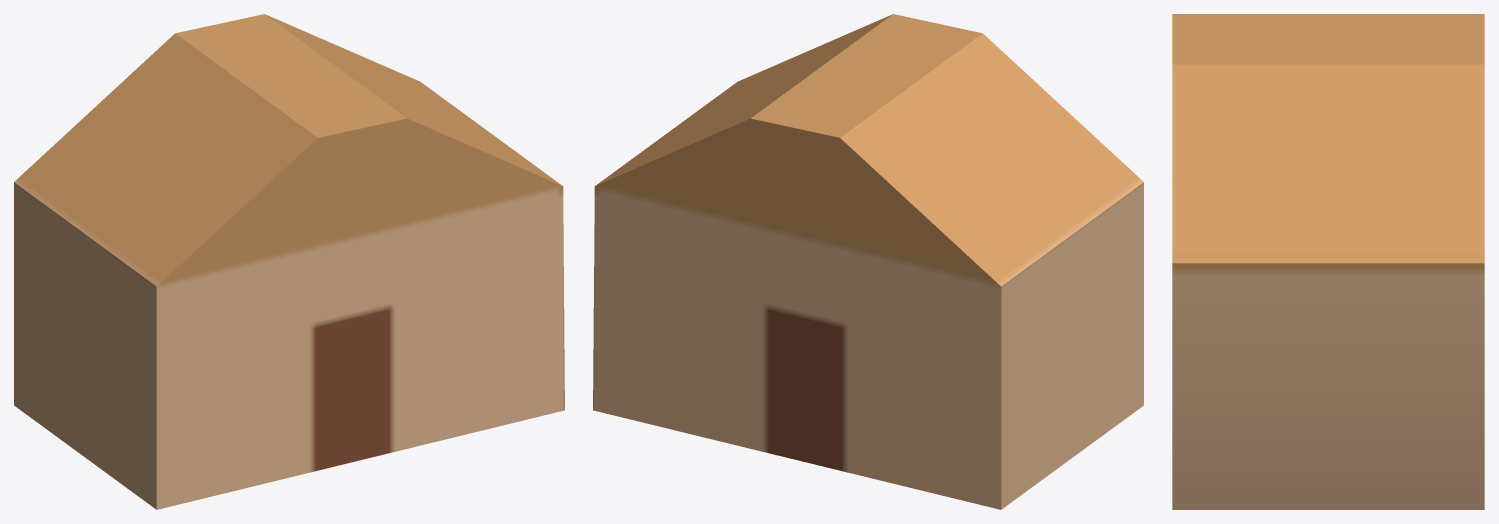
Rendered from test-house.fbx.
3 renders of one model, left to right at view 1: azimuth 30°, elevation 25°; view 2: azimuth 150°, elevation 25°; view 3: azimuth 270°, elevation 25°, orthographic. The views are drawn at different scales.
Parts seen in each view (by area): view 1: Empty.001; view 2: Empty.001; view 3: Empty.001.
Boxes of the visible parts, box(x1,y1,x2,y2) form: Empty.001: box(14, 14, 564, 509); Empty.001: box(593, 14, 1143, 509); Empty.001: box(1172, 14, 1484, 509).
Bounding box in the file's own units: 383 × 298 × 232.
